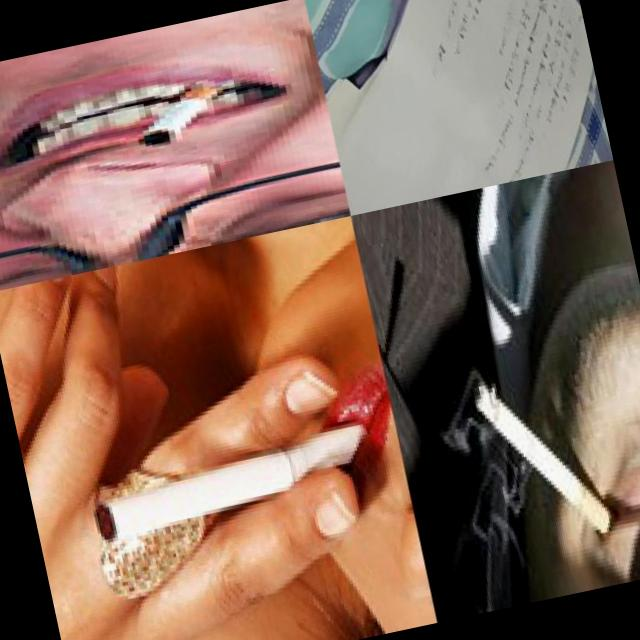cigarette: (86, 418, 382, 542), (471, 355, 626, 567), (124, 82, 250, 156)
